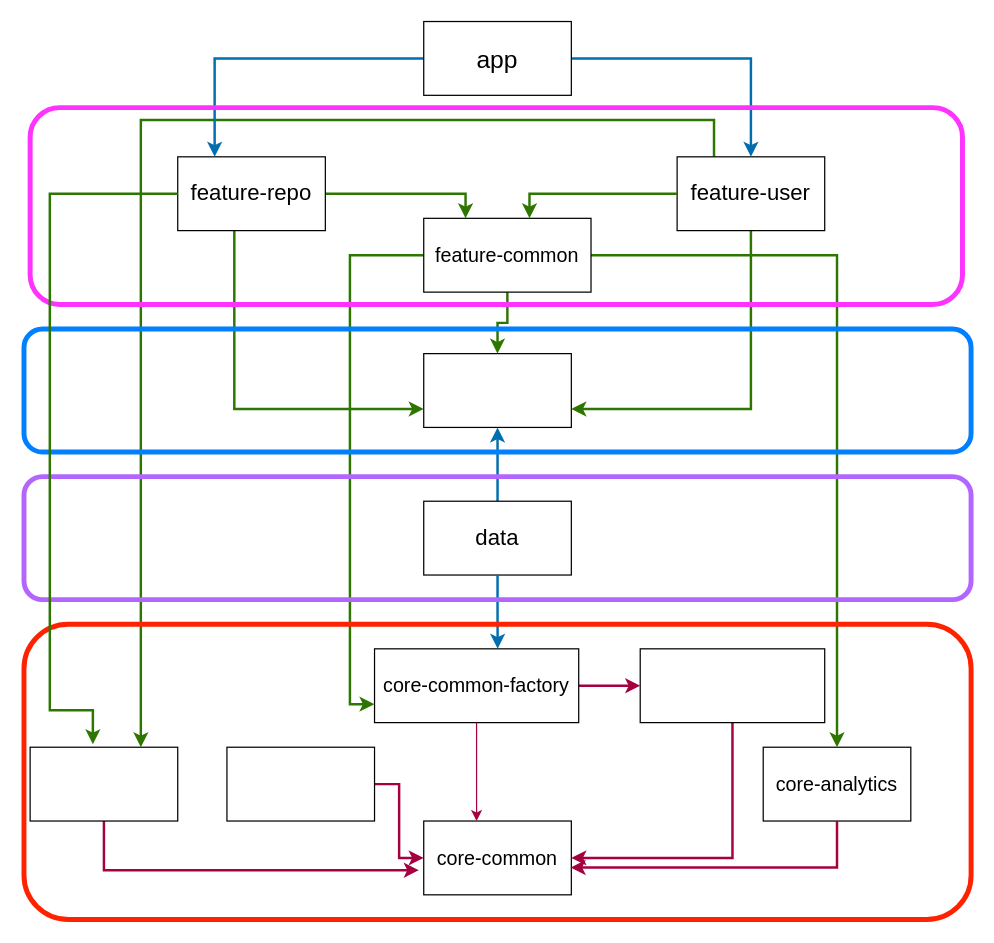
The diagram is 994 pixels wide and 943 high, and some of its shapes have lost their labels. The centre of each missing label's shape, as x and y in pixels:
"core-common-impl" goes at point 732,685.
"core-network" goes at point 300,783.
"core-ui" goes at point 103,783.
"domain" goes at point 497,389.
